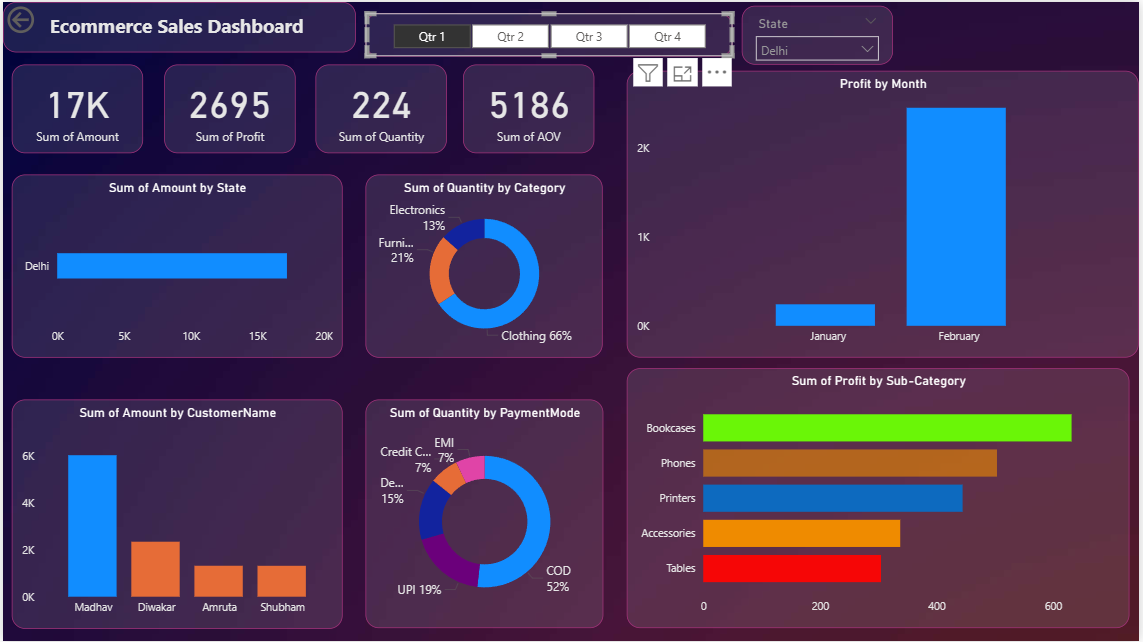

This screenshot's page, from the dashboard's own definition file:
{"tool":"powerbi","page":{"name":"Page 1","canvas":[1280,720],"ordinal":0},"visuals":[{"type":"textbox","box":[0,0,397.8,56.7],"z":0},{"type":"columnChart","title":"Profit by Month","fields":{"Category":["Orders.Order Date.Variation.Date Hierarchy.Month"],"Y":["Sum(Details.Profit)"]},"box":[702.9,76.8,576.8,323.2],"z":1000},{"type":"barChart","fields":{"Category":["Details.Sub-Category"],"Y":["Sum(Details.Profit)"]},"box":[702.9,413,566.7,292.8],"z":2000},{"type":"donutChart","fields":{"Category":["Details.Category"],"Y":["Sum(Details.Quantity)"]},"box":[408.8,193.8,267.5,206.2],"z":3000},{"type":"donutChart","fields":{"Y":["Sum(Details.Quantity)"],"Category":["Details.PaymentMode"]},"box":[408.7,447.8,268.1,258],"z":4000},{"type":"card","fields":{"Values":["Sum(Details.Amount)"]},"box":[10.1,71,147.8,100],"z":5000},{"type":"card","fields":{"Values":["Sum(Details.Profit)"]},"box":[181.2,71,147.8,100],"z":6000},{"type":"card","fields":{"Values":["Sum(Details.Quantity)"]},"box":[352.2,71,147.8,100],"z":7000},{"type":"card","fields":{"Values":["Sum(Details.AOV)"]},"box":[518.8,71,147.8,100],"z":8000},{"type":"barChart","fields":{"Category":["Orders.State"],"Y":["Sum(Details.Amount)"]},"box":[10,193.8,372.5,206.2],"z":9000},{"type":"columnChart","fields":{"Category":["Orders.CustomerName"],"Y":["Sum(Details.Amount)"]},"box":[10,448,373,258],"z":10000},{"type":"actionButton","box":[0,0,100,40],"z":11000},{"type":"slicer","fields":{"Values":["Orders.State"]},"box":[832.2,4.4,170,66.7],"z":12000},{"type":"slicer","fields":{"Values":["Orders.Order Date.Variation.Date Hierarchy.Quarter"]},"box":[408.9,13.3,413.3,48.9],"z":13000}]}

Visuals, with their boxes in screenshot pixels (x1, y1, x2, y2), scaled from the page's 1280x720 canvas onto the 1143x642 screenshot:
textbox: [0,0,355,51]
"Profit by Month" columnChart: [628,68,1142,357]
barChart - Details.Sub-Category x Sum(Details.Profit): [628,368,1134,629]
donutChart - Details.Category x Sum(Details.Quantity): [365,173,604,357]
donutChart - Sum(Details.Quantity) x Details.PaymentMode: [365,399,604,629]
card - Sum(Details.Amount): [9,63,141,152]
card - Sum(Details.Profit): [162,63,294,152]
card - Sum(Details.Quantity): [315,63,446,152]
card - Sum(Details.AOV): [463,63,595,152]
barChart - Orders.State x Sum(Details.Amount): [9,173,342,357]
columnChart - Orders.CustomerName x Sum(Details.Amount): [9,399,342,630]
actionButton: [0,0,89,36]
slicer - Orders.State: [743,4,895,63]
slicer - Orders.Order Date.Variation.Date Hierarchy.Quarter: [365,12,734,55]
